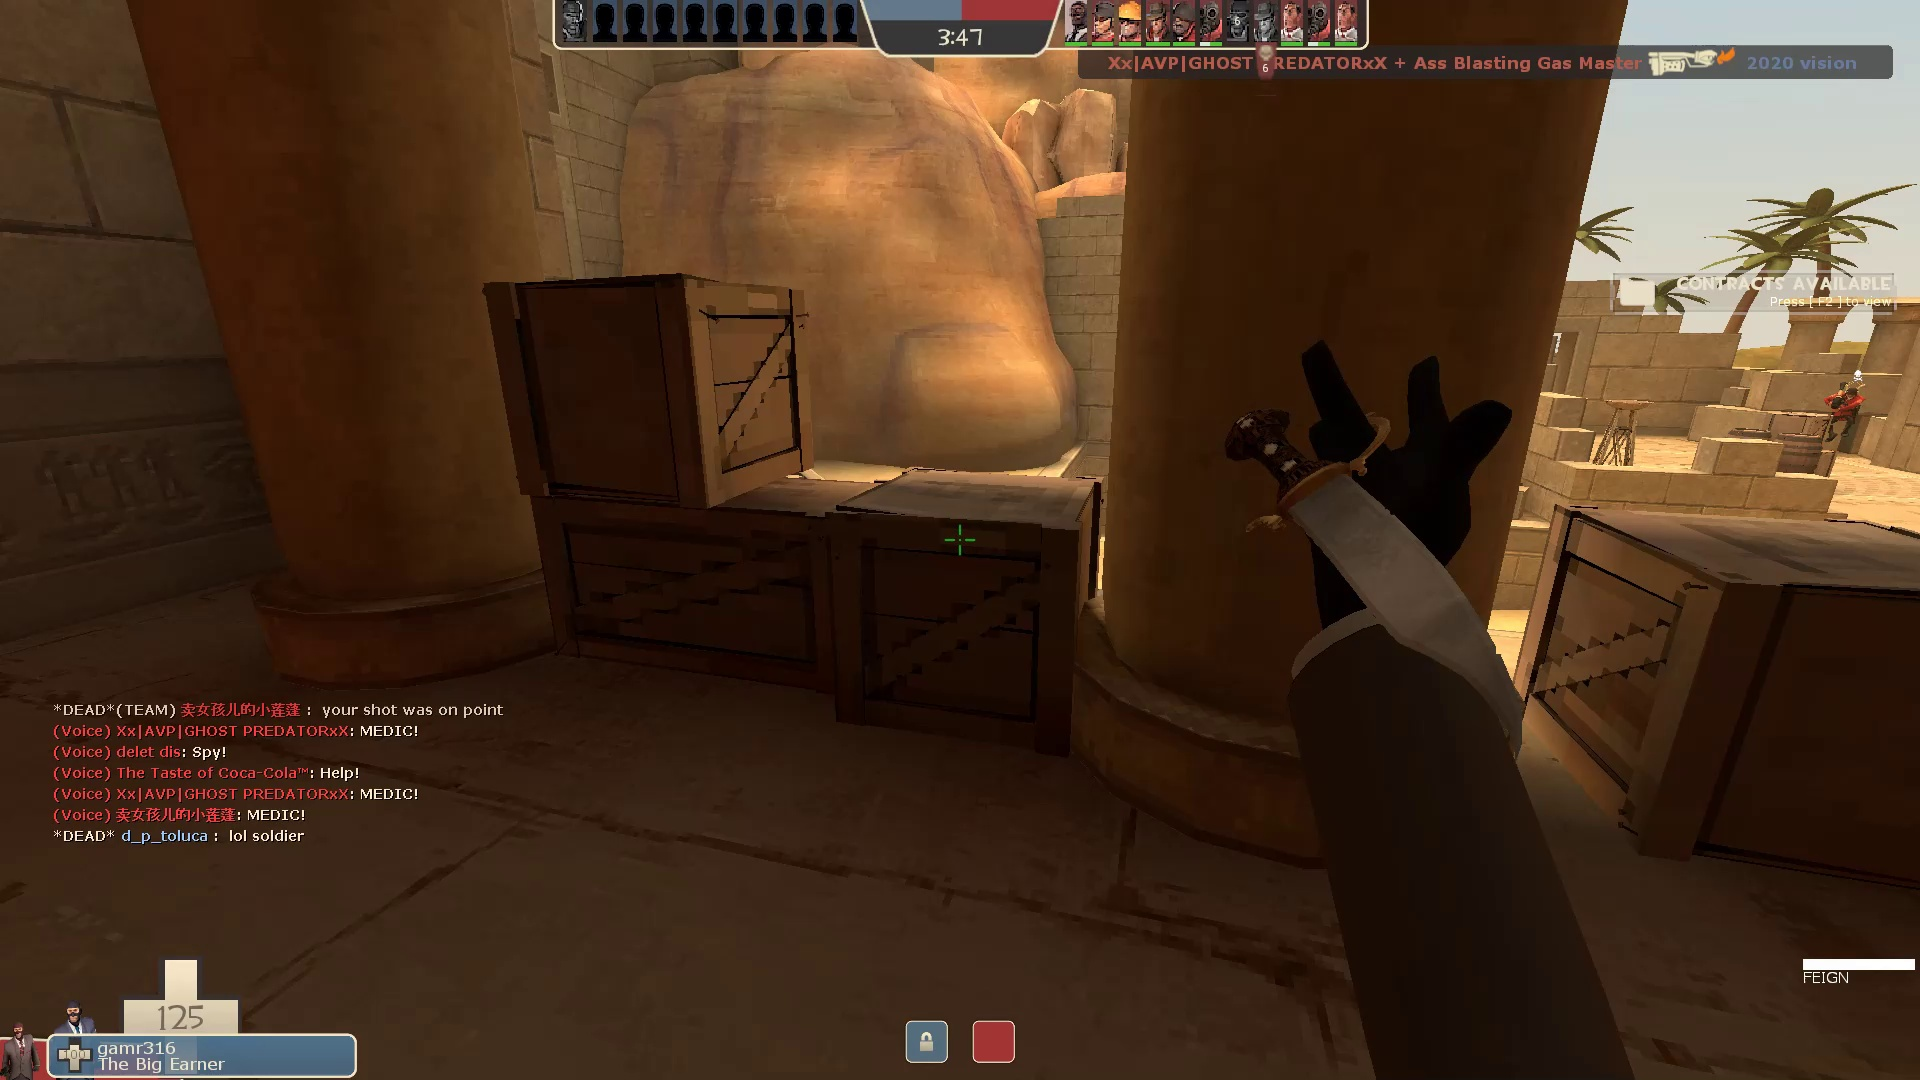red_soldier: (1822, 378, 1867, 444)
